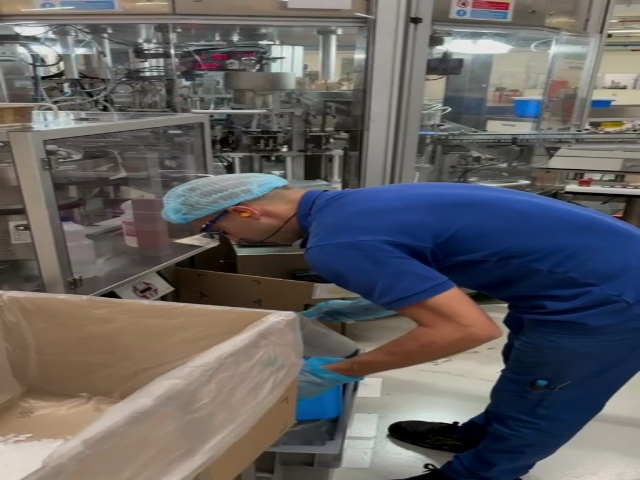Earplug: (226, 207, 263, 220)
Hairnet: (163, 171, 275, 224)
No_Helmet: (162, 172, 289, 224)
No_Vest: (309, 191, 640, 303)
Person: (162, 168, 640, 480)
Safety_Goggles: (194, 199, 240, 236)
